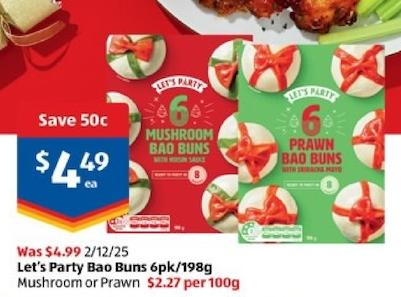description_block: (14, 256, 241, 294)
price_main: (13, 135, 131, 225)
product_image_block: (100, 19, 389, 251)
promo_text_block: (17, 106, 133, 135)
unit_price_block: (143, 271, 245, 293)
